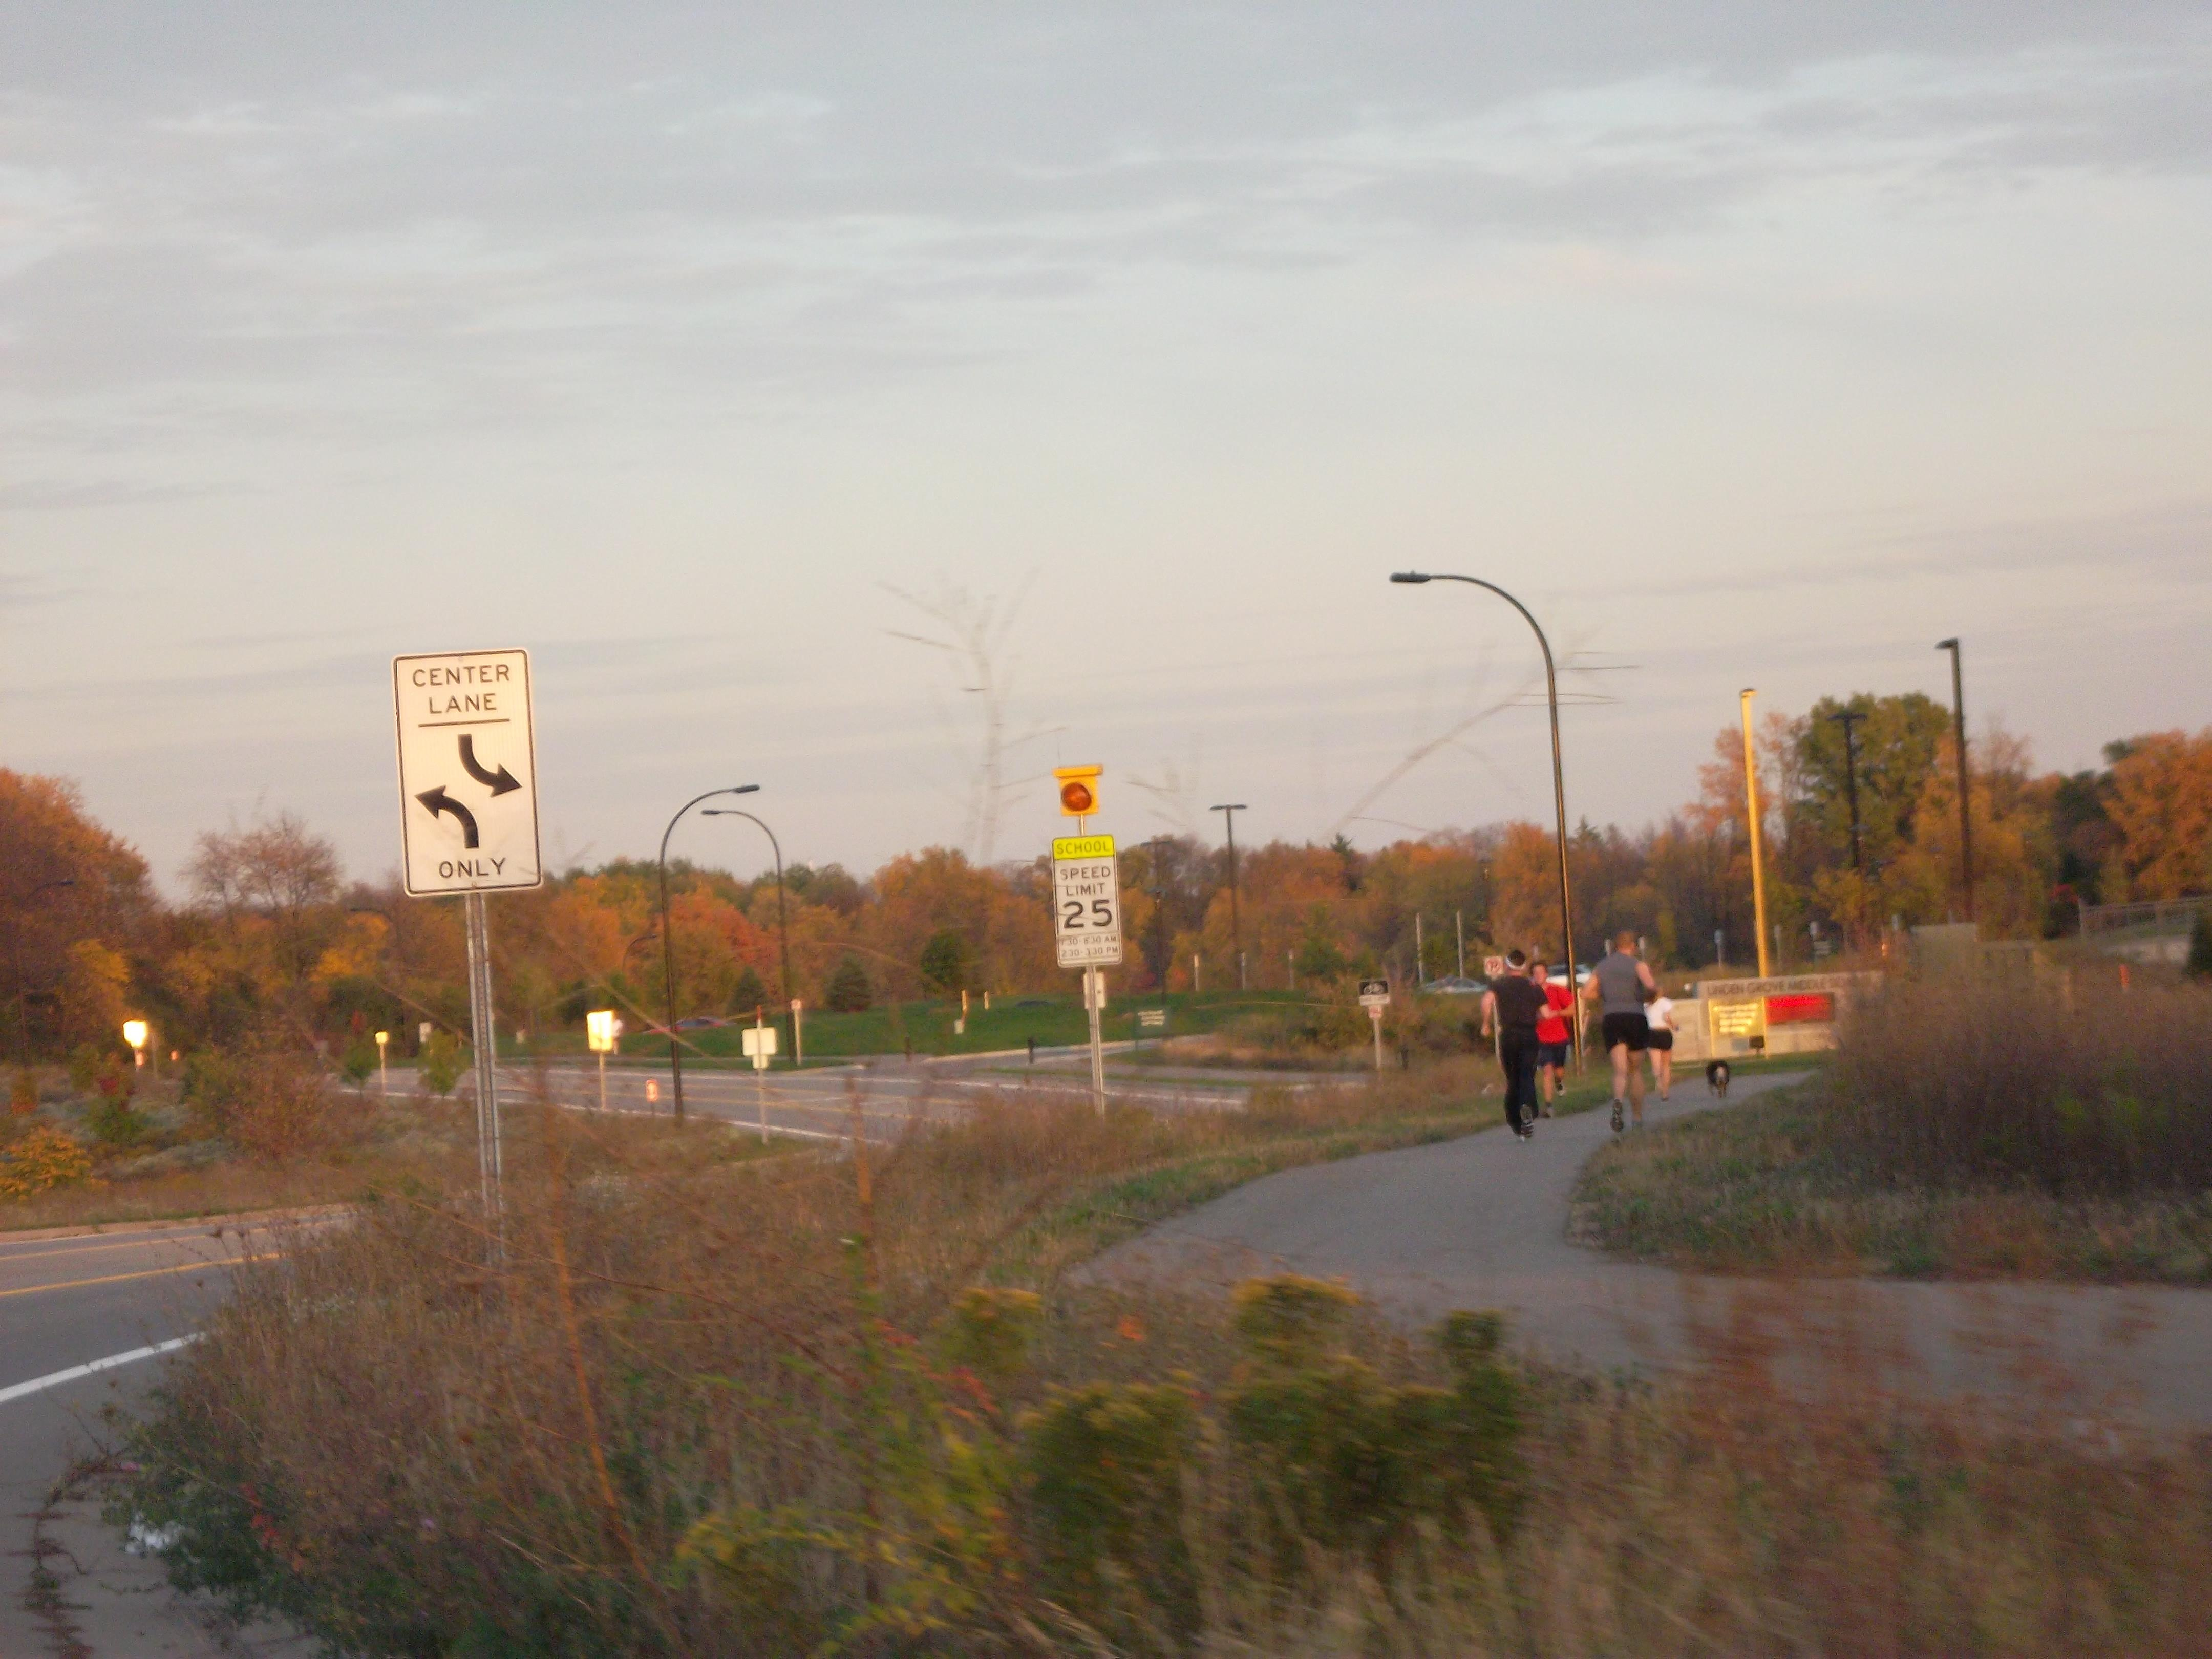regulatory: (388, 631, 552, 901), (1050, 864, 1125, 978)
warning: (1045, 831, 1123, 863)
